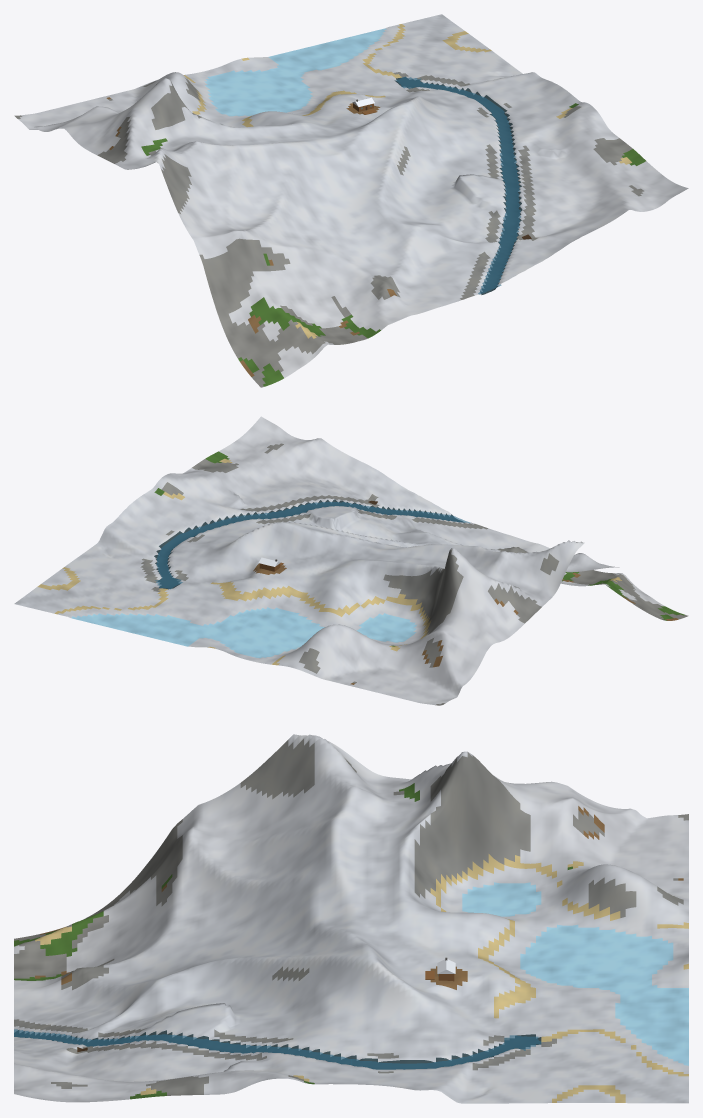
File: chunk_6_2.glb
The picture shows the model from 3 angles, top to bottom: view 1: azimuth 30°, elevation 25°; view 2: azimuth 150°, elevation 25°; view 3: azimuth 270°, elevation 25°; orthographic projection. The views are drawn at different scales.
Parts seen in each view (by area): view 1: Surface_Snow, Surface_Gravel, Surface_Ice, Surface_Water, Water, Surface_Grass, Surface_Sand, Surface_Dirt; view 2: Surface_Snow, Surface_Gravel, Surface_Ice, Surface_Sand, Surface_Water, Water, Surface_Grass, Surface_Dirt; view 3: Surface_Snow, Surface_Gravel, Surface_Ice, Surface_Sand, Surface_Water, Water, Surface_Grass, Surface_Dirt.
Part boxes in pixels (x1,y1,x2,y2): Surface_Snow: [18, 14, 688, 377]; Surface_Gravel: [14, 72, 644, 387]; Surface_Ice: [204, 28, 386, 116]; Surface_Water: [394, 77, 522, 294]; Water: [396, 76, 520, 294]; Surface_Grass: [141, 103, 645, 386]; Surface_Sand: [184, 24, 631, 338]; Surface_Dirt: [106, 97, 396, 376]; Surface_Snow: [14, 416, 664, 704]; Surface_Gravel: [140, 443, 688, 705]; Surface_Ice: [71, 607, 416, 658]; Surface_Sand: [37, 458, 621, 665]; Surface_Water: [154, 499, 464, 589]; Water: [155, 502, 470, 589]; Surface_Grass: [154, 451, 684, 646]; Surface_Dirt: [253, 563, 678, 684]; Surface_Snow: [14, 734, 688, 1103]; Surface_Gravel: [14, 739, 688, 1095]; Surface_Ice: [462, 882, 688, 1065]; Surface_Sand: [35, 854, 688, 1102]; Surface_Water: [14, 1030, 541, 1069]; Water: [14, 1029, 541, 1069]; Surface_Grass: [14, 783, 572, 1099]; Surface_Dirt: [35, 806, 683, 989].
Size of the model in its own units: 256 by 97.97 by 256.
